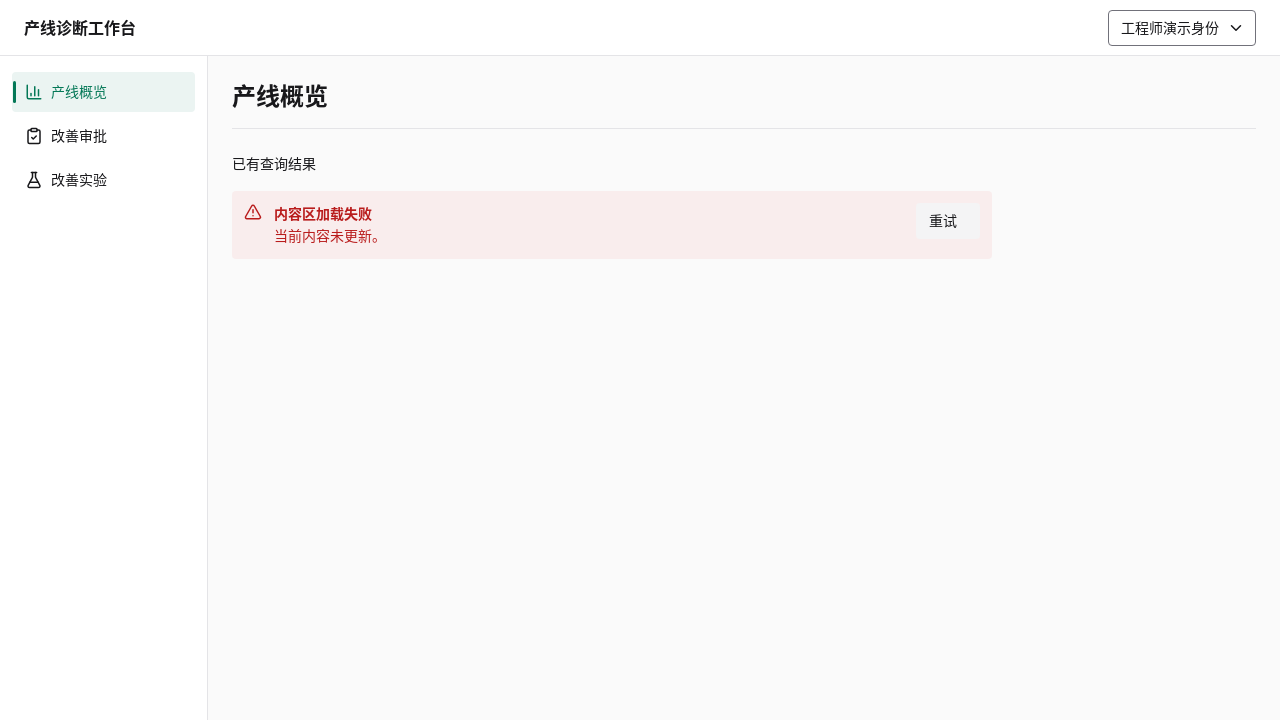
Test: WorkbenchApp app-shell › retries a failed region without removing other available content
Click the button "重试" at (948, 221), box x1=916 y1=203 x2=980 y2=239
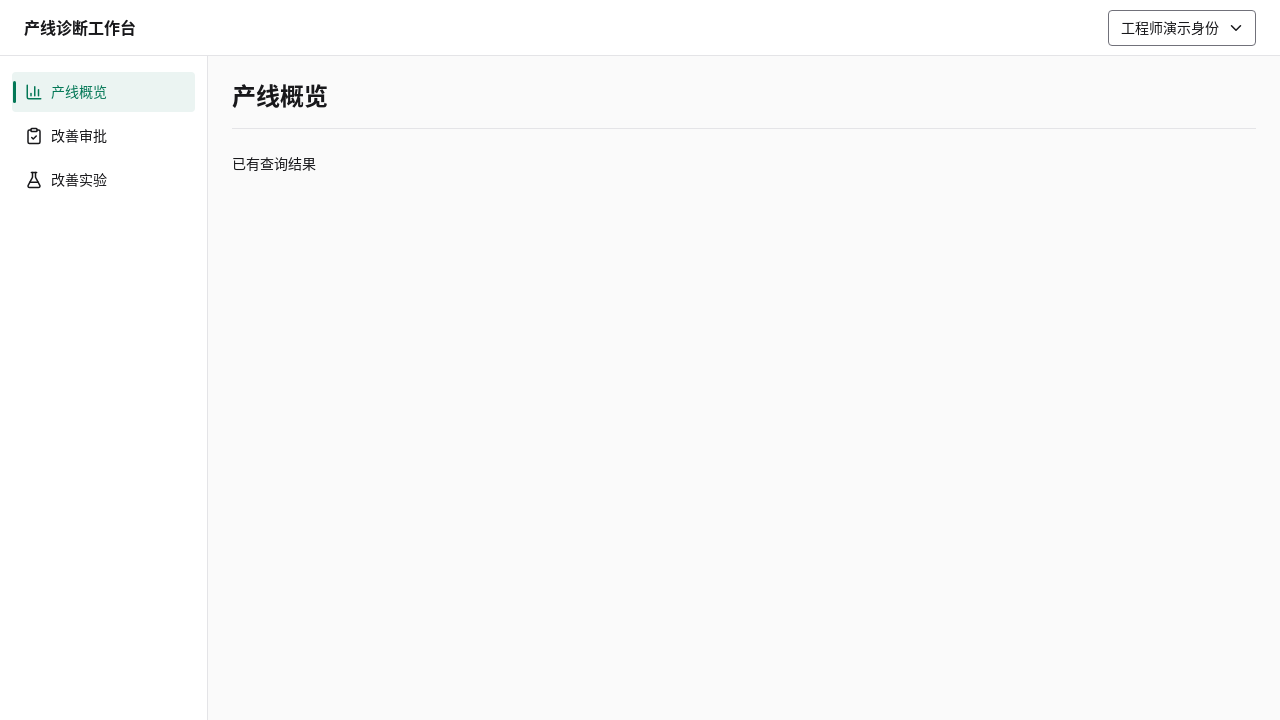
Check: the text "已有查询结果" is shown, box x1=232 y1=154 x2=316 y2=173
Check: the message "内容区加载失败 当前内容未更新。 重试" is gone
